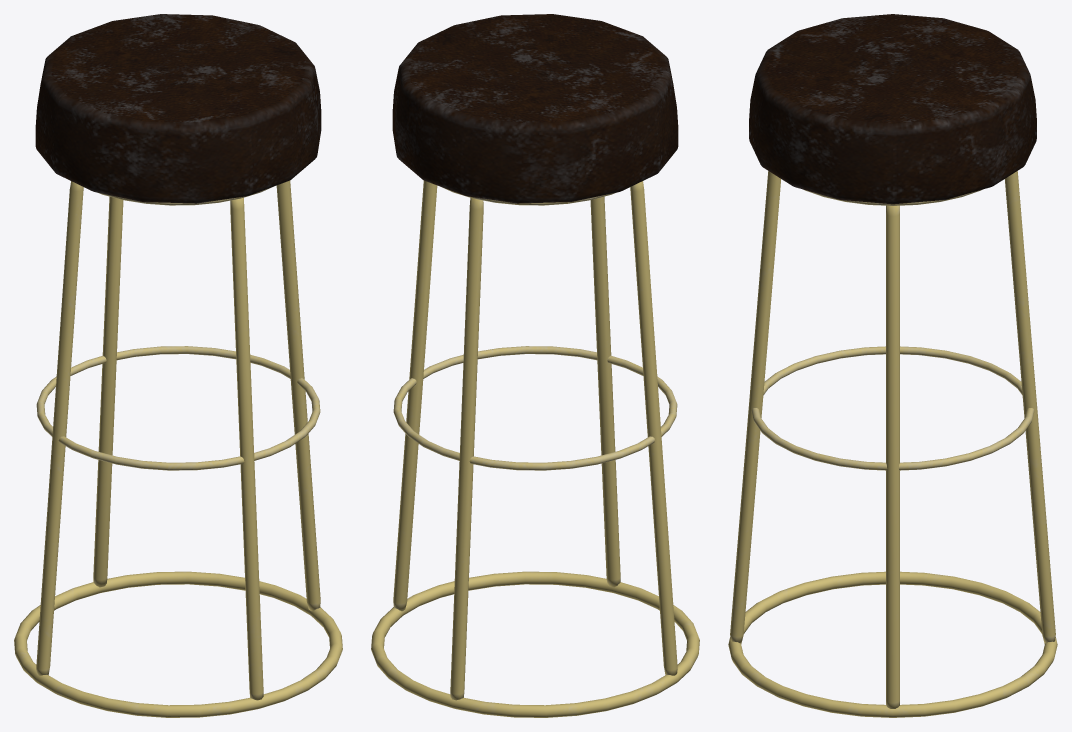
The model's file is Stool.fbx.
3 renders of one model, left to right at view 1: azimuth 30°, elevation 25°; view 2: azimuth 150°, elevation 25°; view 3: azimuth 270°, elevation 25°, orthographic.
Parts seen in each view (by area): view 1: Bar_Stool; view 2: Bar_Stool; view 3: Bar_Stool.
Boxes of the visible parts, x1=… form: Bar_Stool: x1=14, y1=14, x2=342, y2=717; Bar_Stool: x1=371, y1=14, x2=699, y2=717; Bar_Stool: x1=728, y1=14, x2=1057, y2=717.
Size of the model in its own units: 116 by 225 by 116.
